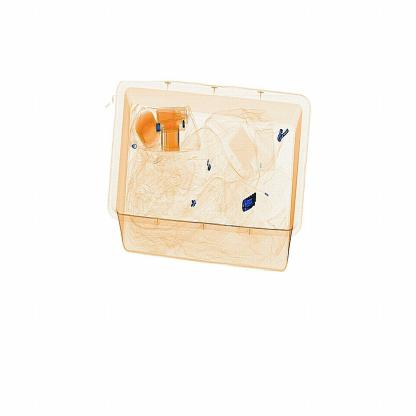knife: (239, 194, 263, 217)
